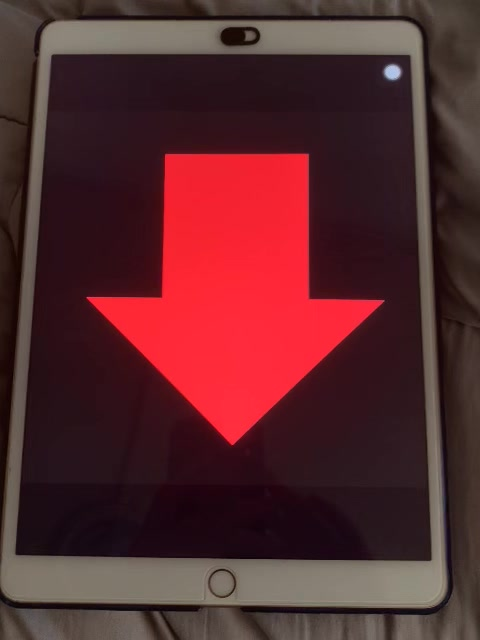down: (83, 148, 387, 451)
